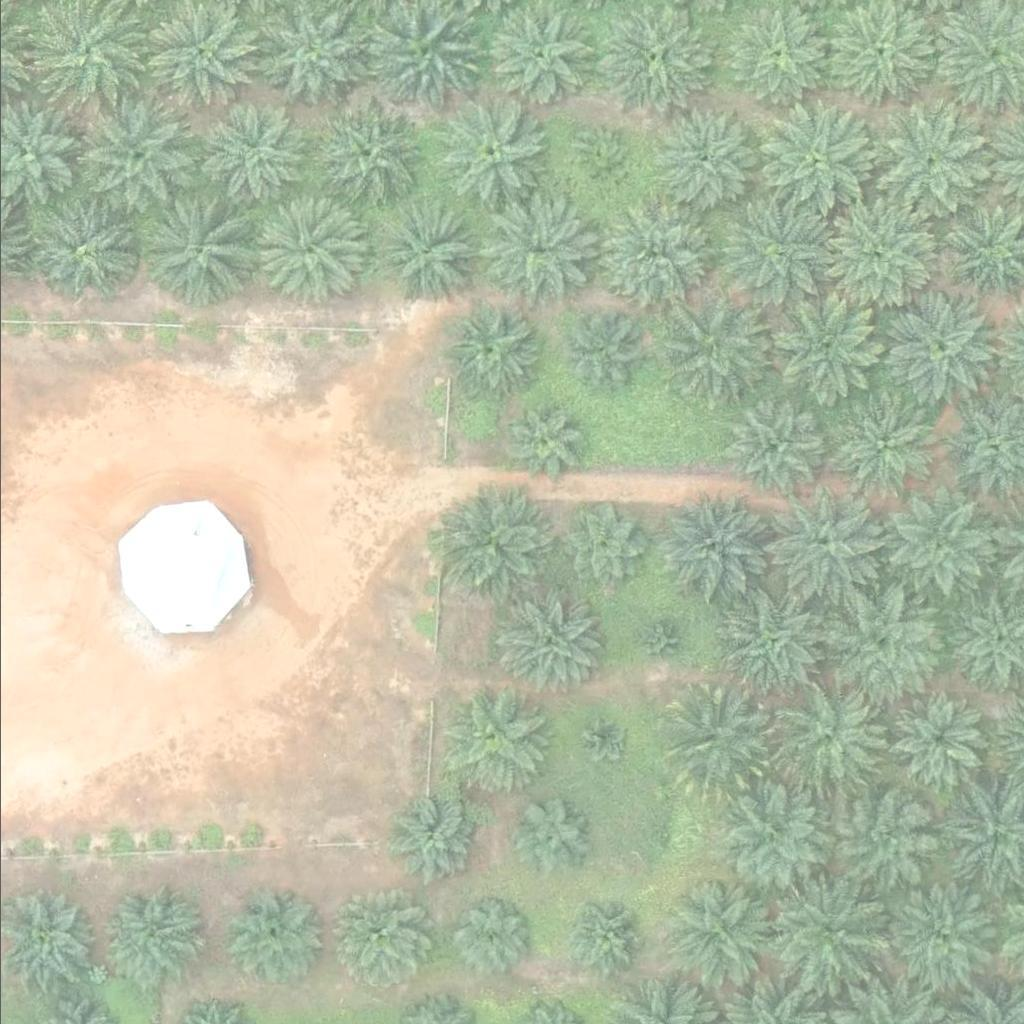Kelapa_Sawit: (882, 877, 996, 990), (772, 874, 886, 987), (599, 199, 713, 312), (758, 105, 872, 218), (663, 879, 776, 992), (823, 781, 936, 894), (879, 489, 992, 602), (766, 489, 879, 602), (651, 492, 764, 605), (830, 387, 943, 500), (819, 203, 932, 316), (724, 197, 837, 310), (868, 108, 981, 221), (433, 97, 546, 210), (311, 94, 424, 207), (476, 193, 589, 306), (372, 197, 485, 310), (249, 197, 362, 310), (137, 192, 250, 305), (438, 492, 551, 605), (820, 1, 934, 113), (77, 100, 191, 212), (437, 684, 551, 796), (662, 683, 775, 795), (716, 786, 829, 898), (772, 681, 885, 793), (826, 581, 939, 693), (719, 585, 832, 697), (882, 293, 995, 405), (770, 298, 883, 410), (663, 297, 776, 409), (595, 3, 708, 115), (488, 585, 601, 697), (887, 690, 988, 790), (722, 399, 823, 499), (486, 8, 587, 108), (103, 882, 204, 982), (655, 113, 755, 213), (724, 6, 824, 106), (204, 103, 304, 203), (31, 202, 131, 302), (330, 892, 430, 992), (223, 887, 323, 987), (444, 308, 533, 396), (390, 801, 478, 889), (555, 504, 643, 591), (505, 795, 593, 882), (555, 894, 643, 981), (446, 891, 534, 978), (557, 317, 633, 392), (507, 403, 582, 478), (567, 134, 630, 196), (634, 619, 685, 669), (578, 713, 629, 763), (642, 810, 692, 860)
